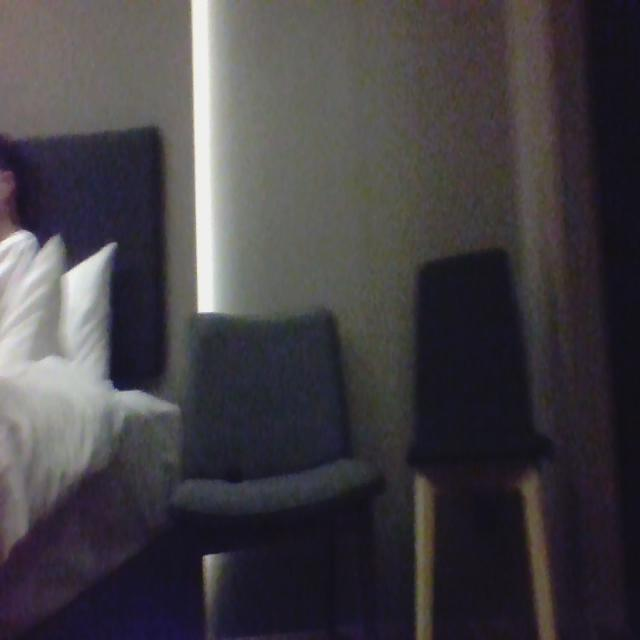empty: (401, 258, 548, 492), (180, 322, 371, 501)
